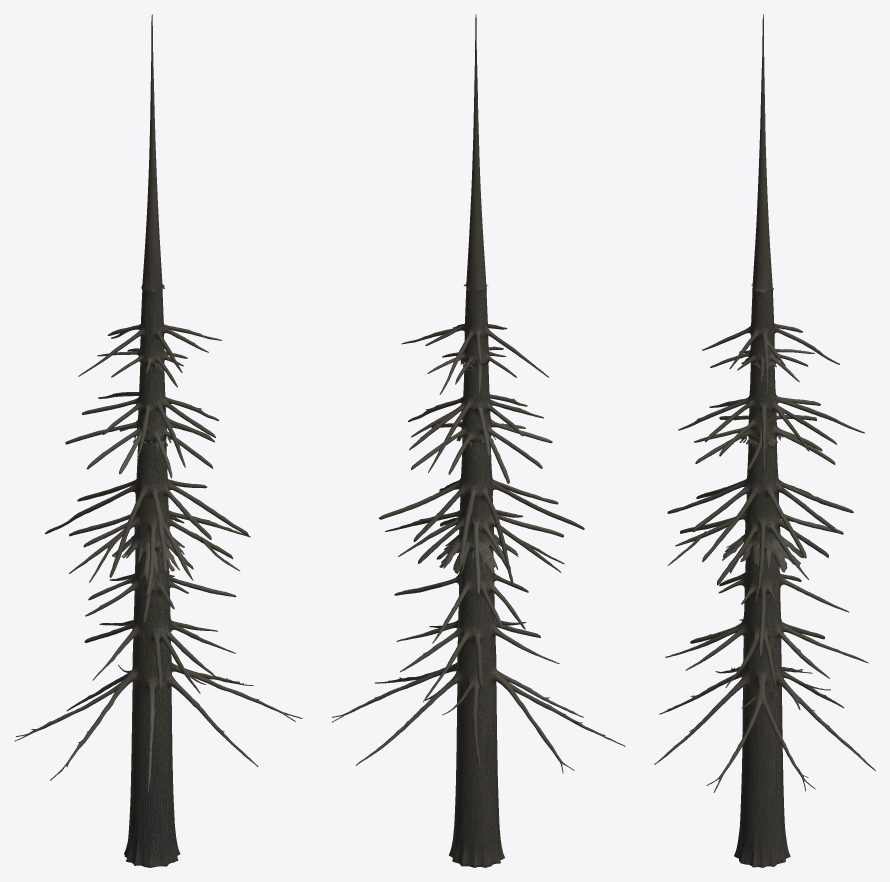
Rendered from pine.glb.
The picture shows the model from 3 angles, left to right: view 1: azimuth 30°, elevation 25°; view 2: azimuth 150°, elevation 25°; view 3: azimuth 270°, elevation 25°; orthographic projection.
Visible parts, largest first — view 1: node_0; view 2: node_0; view 3: node_0.
Boxes of the visible parts, <box> form: node_0: <box>14,14,302,867</box>; node_0: <box>331,14,625,867</box>; node_0: <box>654,14,875,867</box>.
Size of the model in its own units: 0.3748 by 1.2 by 0.2859.
Materials: 1 (1 with a texture image).
